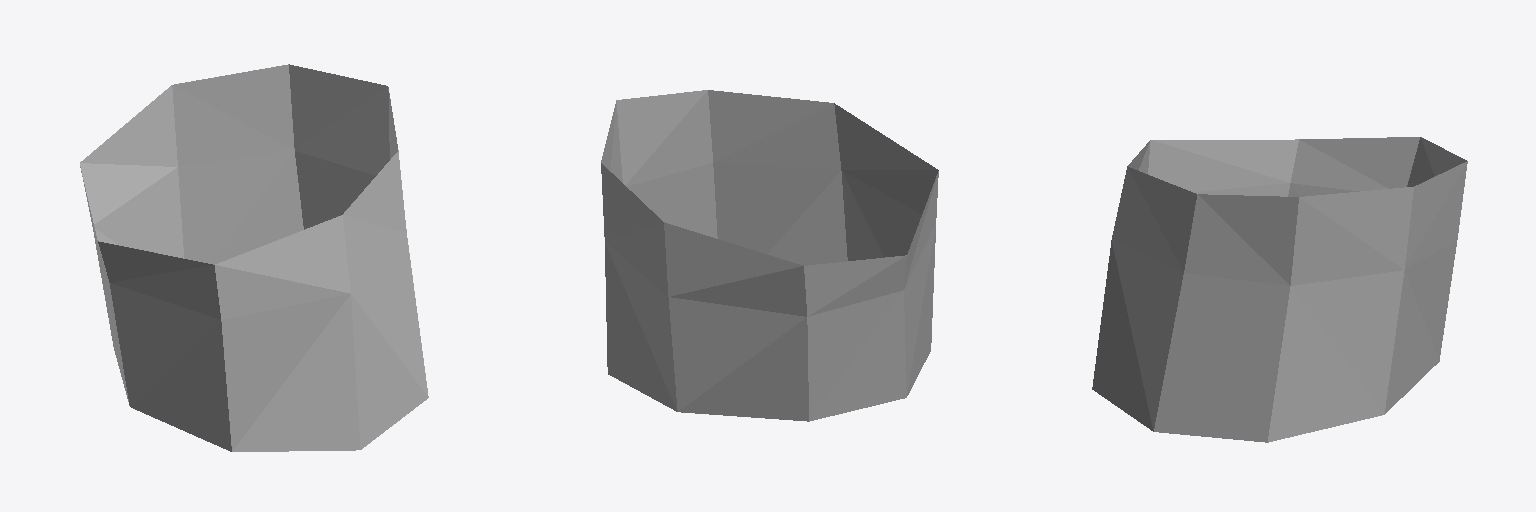
File: up_lags_R.obj
3 views of the same model, side by side, from view 1: azimuth 30°, elevation 25°; view 2: azimuth 150°, elevation 25°; view 3: azimuth 270°, elevation 25° (orthographic).
Parts seen in each view (by area): view 1: Meowth.001; view 2: Meowth.001; view 3: Meowth.001.
Boxes of the visible parts, x1,y1,x2,y2 form: Meowth.001: [80, 64, 428, 451]; Meowth.001: [601, 90, 938, 421]; Meowth.001: [1092, 137, 1467, 442].
Size of the model in its own units: 2.91 by 2.4 by 3.19.